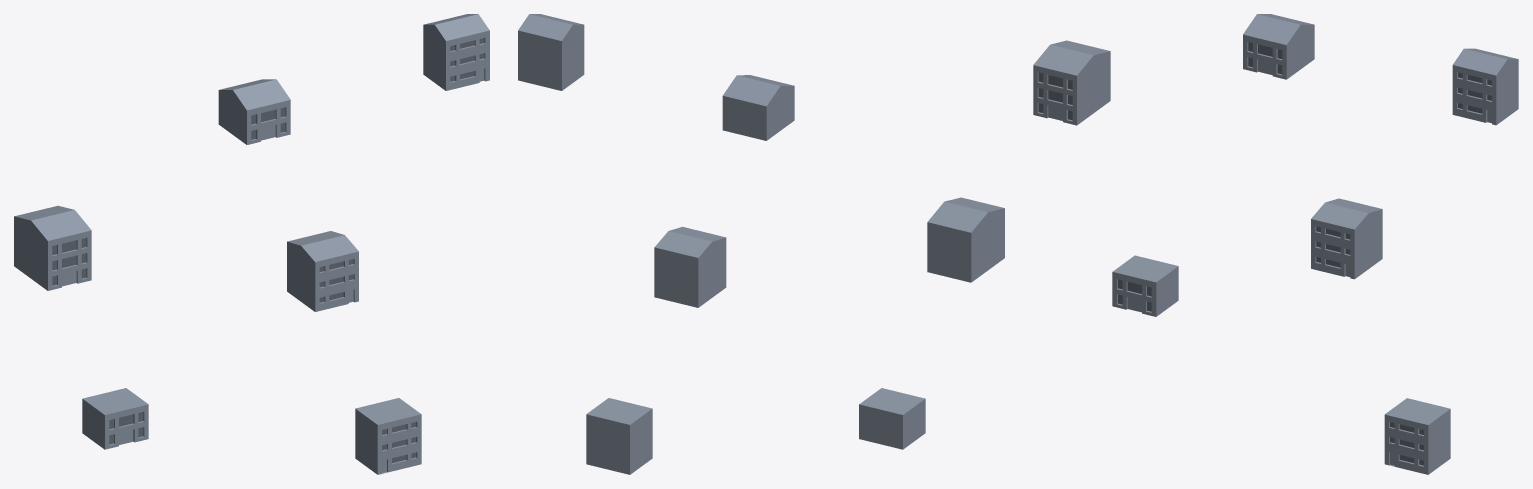
The model's file is BinaGrup2.gltf.
3 views of the same model, side by side, from view 1: azimuth 30°, elevation 25°; view 2: azimuth 150°, elevation 25°; view 3: azimuth 330°, elevation 25° (orthographic).
Visible parts, largest first — view 1: Building_022.011, Building_051.011, Building_063.011, Building_060.011, Building_042.011, Building_031.011, Building_022.012; view 2: Building_022.011, Building_051.011, Building_063.011, Building_060.011, Building_042.011, Building_031.011; view 3: Building_022.011, Building_051.011, Building_063.011, Building_060.011, Building_042.011, Building_031.011, Building_022.012.
Boxes of the visible parts, <box> form: Building_022.011: <box>14,205,91,290</box>; Building_051.011: <box>287,231,358,311</box>; Building_063.011: <box>423,14,489,90</box>; Building_060.011: <box>355,398,421,474</box>; Building_042.011: <box>218,79,290,144</box>; Building_031.011: <box>82,388,148,449</box>; Building_022.012: <box>52,238,86,285</box>; Building_022.011: <box>927,197,1004,282</box>; Building_051.011: <box>654,226,726,307</box>; Building_063.011: <box>518,14,584,90</box>; Building_060.011: <box>586,398,652,474</box>; Building_042.011: <box>722,75,794,140</box>; Building_031.011: <box>859,388,925,449</box>; Building_022.011: <box>1033,40,1110,125</box>; Building_051.011: <box>1311,198,1382,279</box>; Building_063.011: <box>1452,48,1518,125</box>; Building_060.011: <box>1384,398,1450,474</box>; Building_042.011: <box>1243,14,1314,79</box>; Building_031.011: <box>1112,255,1178,316</box>; Building_022.012: <box>1038,72,1072,120</box>.
Bounding box in the file's own units: 0.5054 × 0.4533 × 0.0652.
